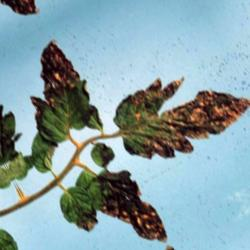Tomato Septoria leaf spot: (95, 33, 250, 189), (3, 32, 117, 158), (64, 140, 180, 250)
